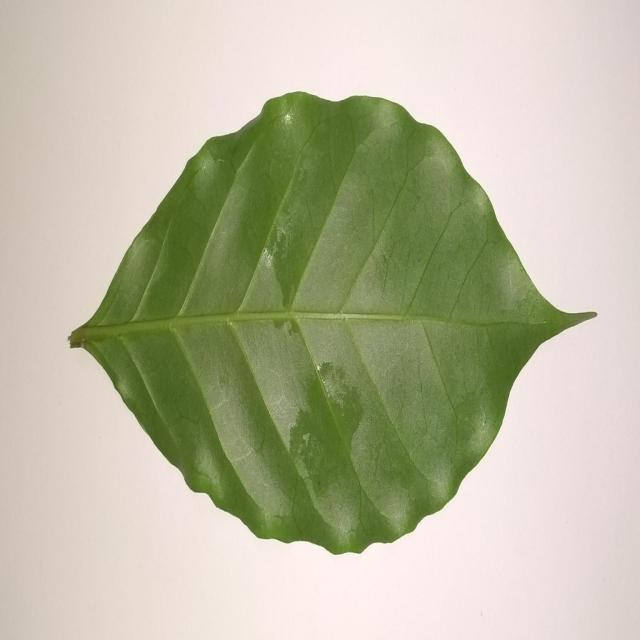Sanas: (68, 92, 596, 557)
